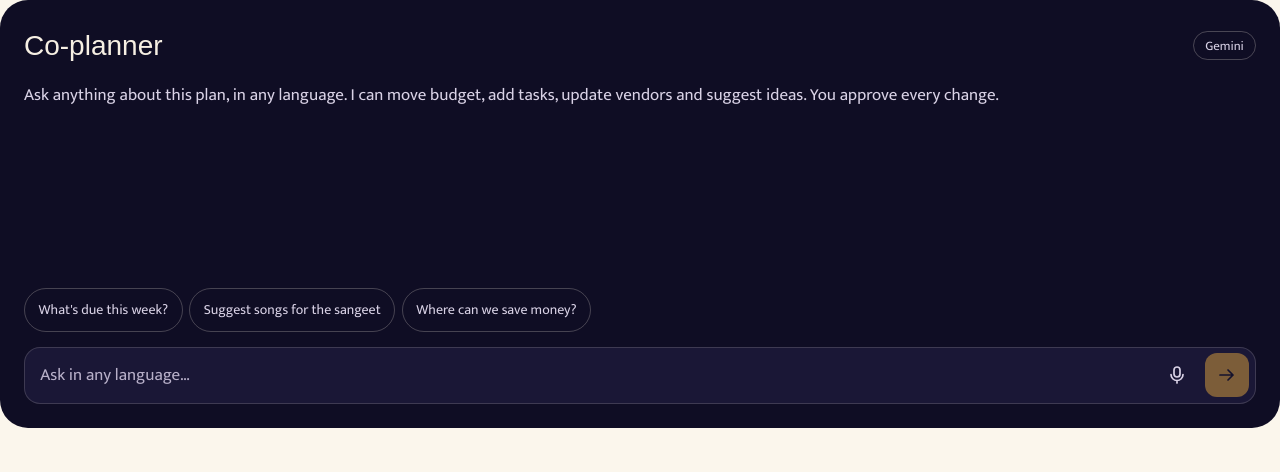
CoPlanner › shows proposed changes in plain words and applies them only on approval
Type "More for food please" into the field named "Message the co-planner".
click(590, 375); type("More for food please")  # box [31,353,1149,397]
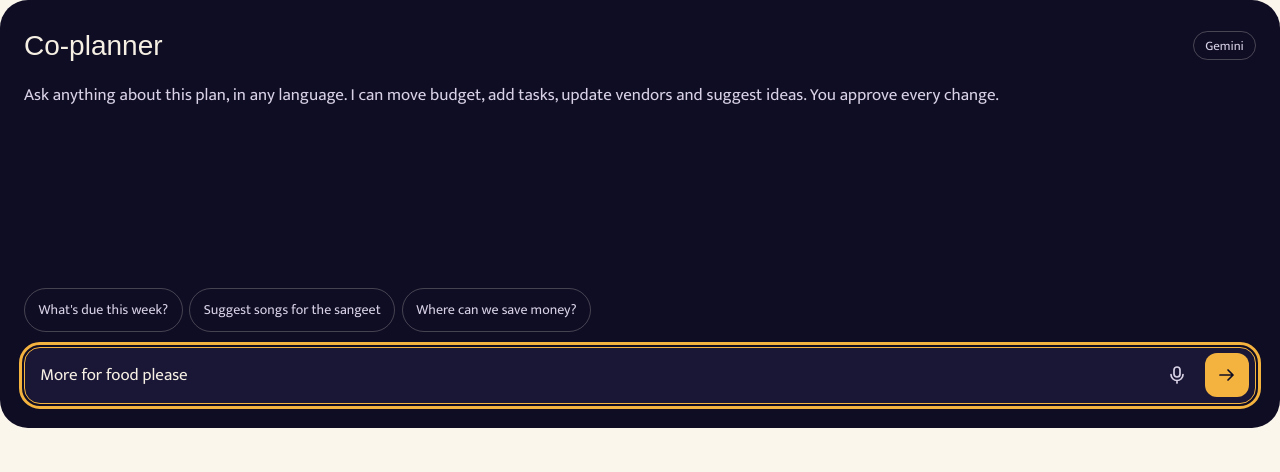
Click the button named "Send message".
click(1227, 375)  # box [1205,353,1249,397]
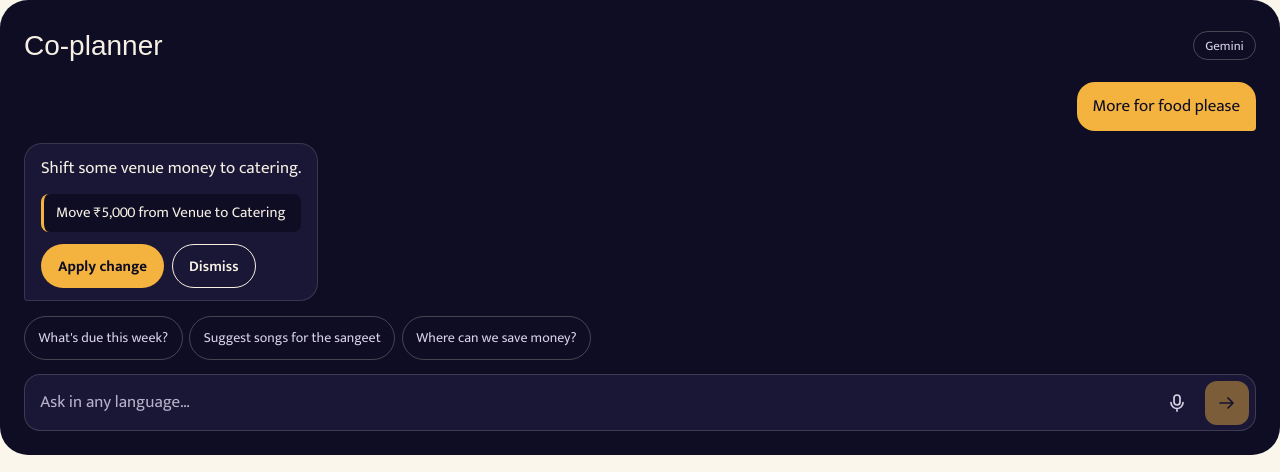
Expected: the text "Shift some venue money to catering." is shown, [41,156,301,182]
Click the button "Apply change".
click(102, 266)  # box [41,244,164,288]
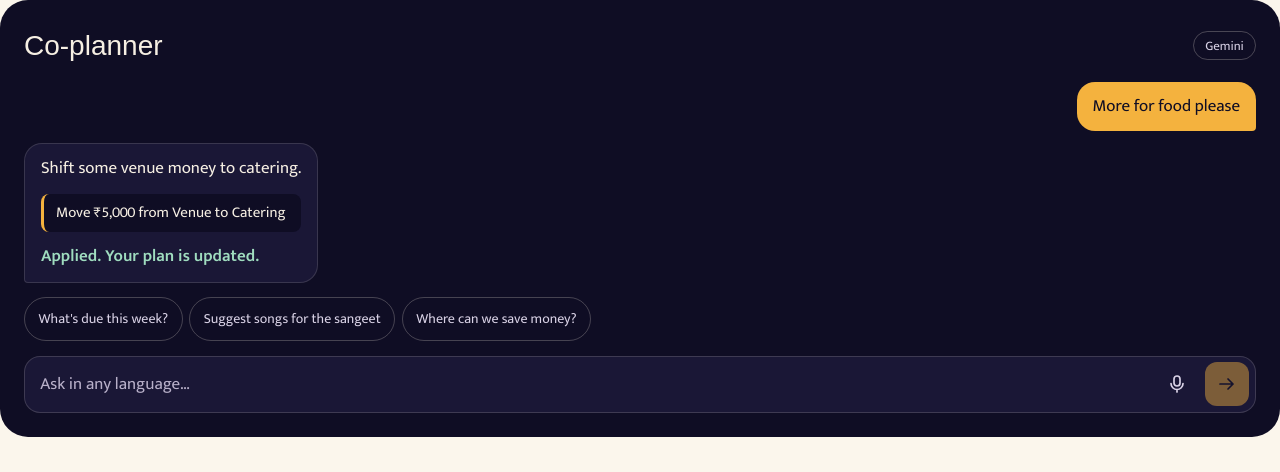
Expected: the text "Applied. Your plan is updated." is shown, [41,242,259,270]
